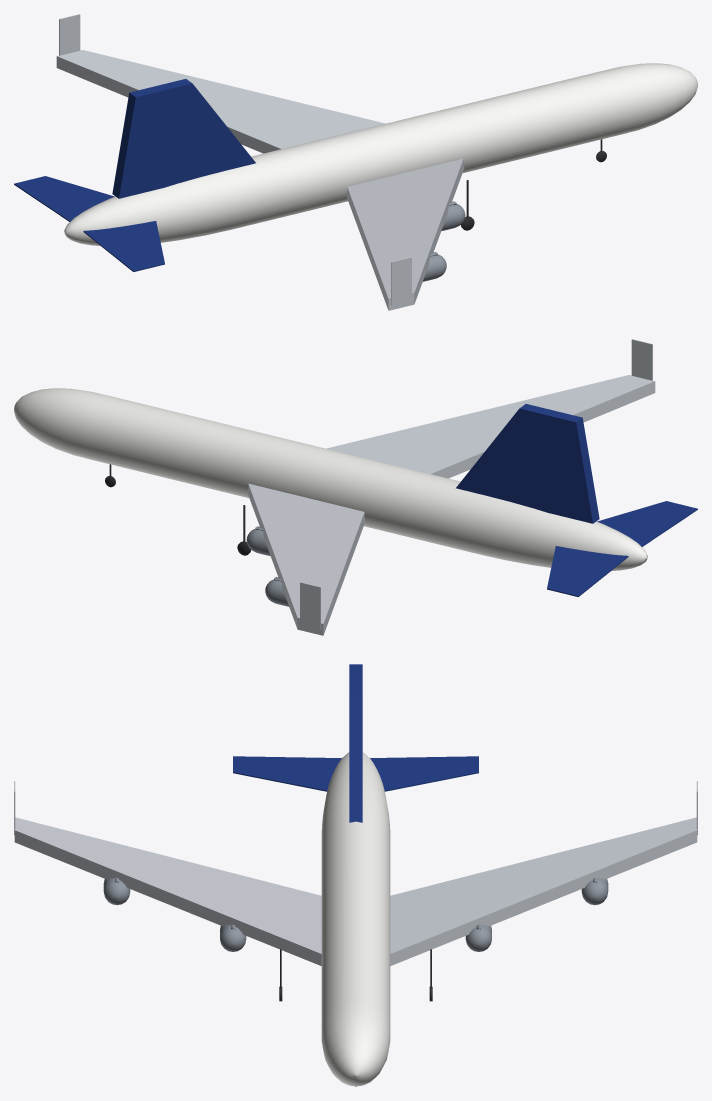
3 views of the same model, one above another, from view 1: azimuth 30°, elevation 25°; view 2: azimuth 150°, elevation 25°; view 3: azimuth 270°, elevation 25° (orthographic). The views are drawn at different scales.
Visible parts, largest first — view 1: fuselage, wings, tail, engines; view 2: fuselage, wings, tail, engines; view 3: wings, fuselage, tail, engines.
Part boxes in pixels (<box>): fuselage: <box>64,63,697,246</box>; wings: <box>56,14,464,310</box>; tail: <box>14,79,255,271</box>; engines: <box>423,201,465,281</box>; fuselage: <box>14,388,647,571</box>; wings: <box>247,339,655,635</box>; tail: <box>456,404,697,596</box>; engines: <box>246,526,288,606</box>; wings: <box>14,781,697,965</box>; fuselage: <box>321,752,390,1086</box>; tail: <box>233,664,478,822</box>; engines: <box>103,877,608,951</box>.
Size of the model in its own units: 70.7 by 19.39 by 64.52.
